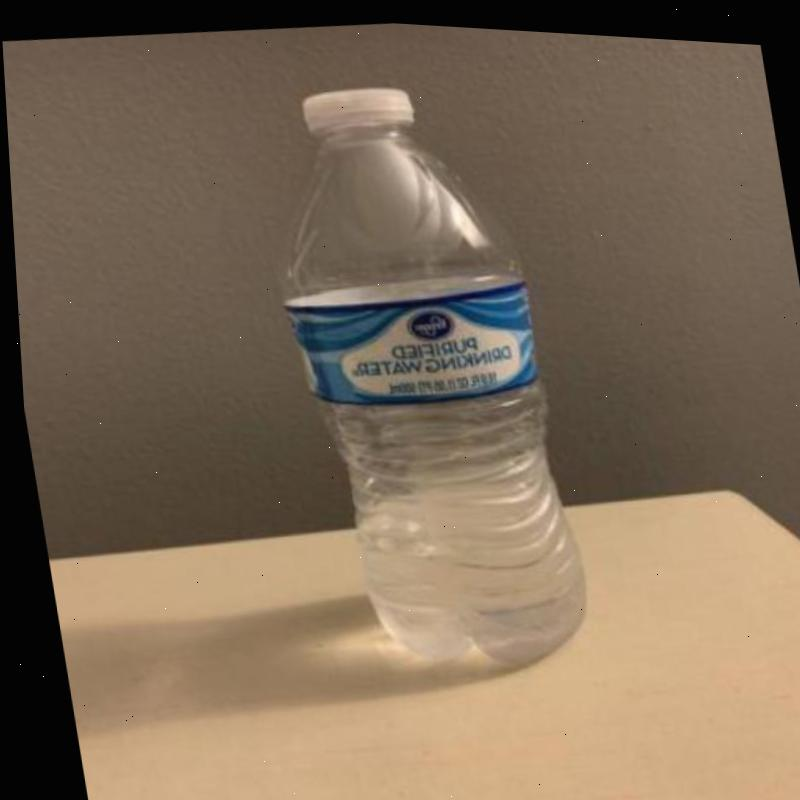botella: (240, 58, 587, 680)
